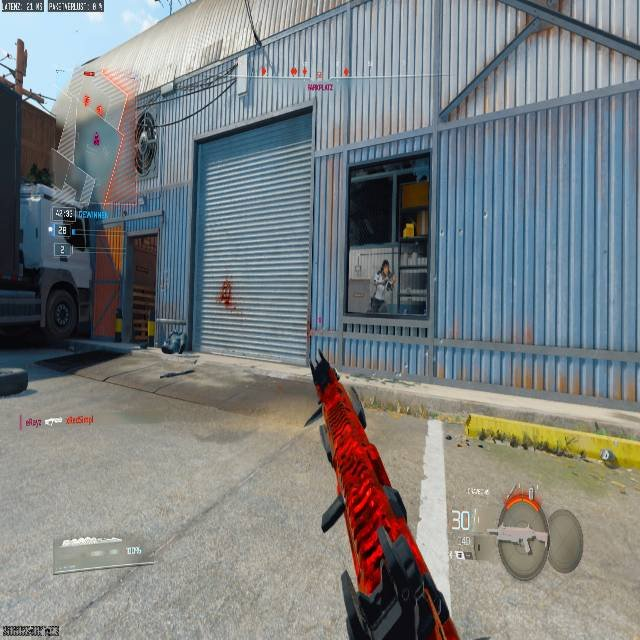head: (381, 259, 390, 272)
player: (369, 260, 393, 312)
